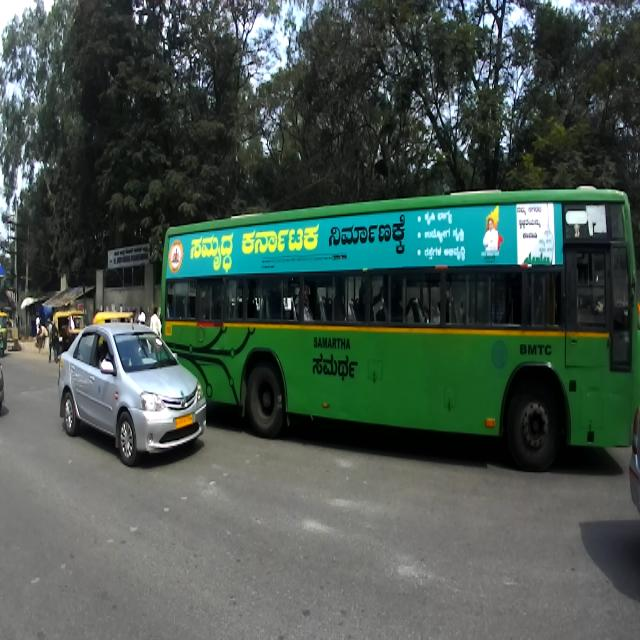bus ahead at: (159, 205, 640, 462)
car ahead at: (60, 315, 208, 464)
